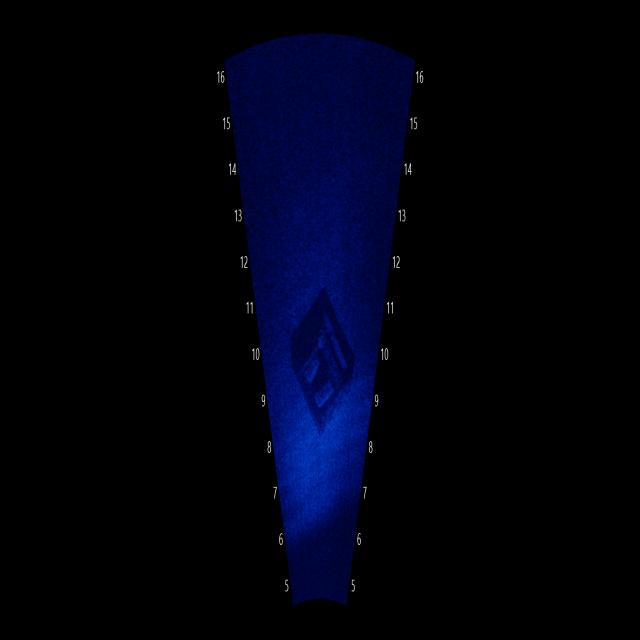square: (284, 293, 361, 432)
